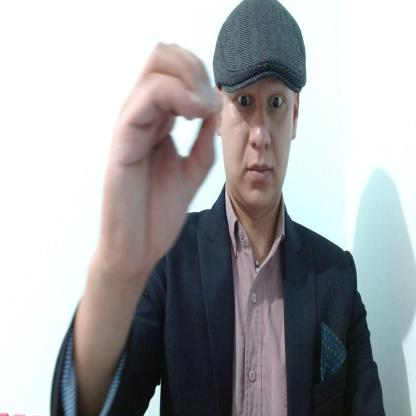O: (99, 41, 222, 270)
